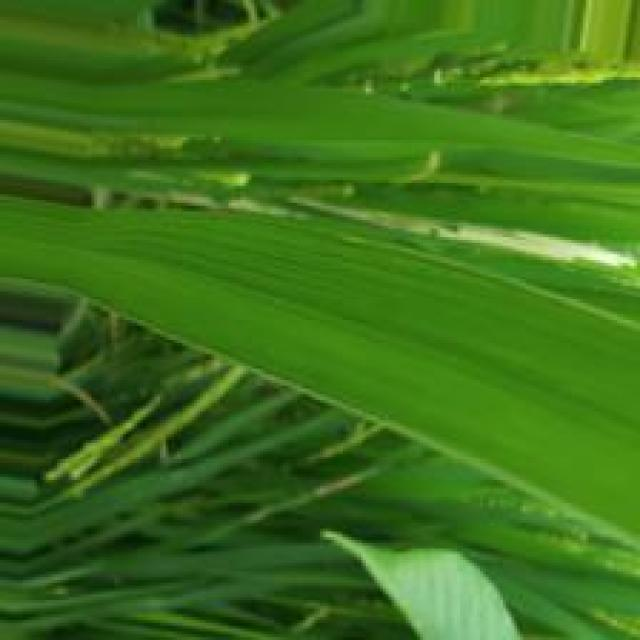HealthyLeaf: (112, 209, 634, 530)
